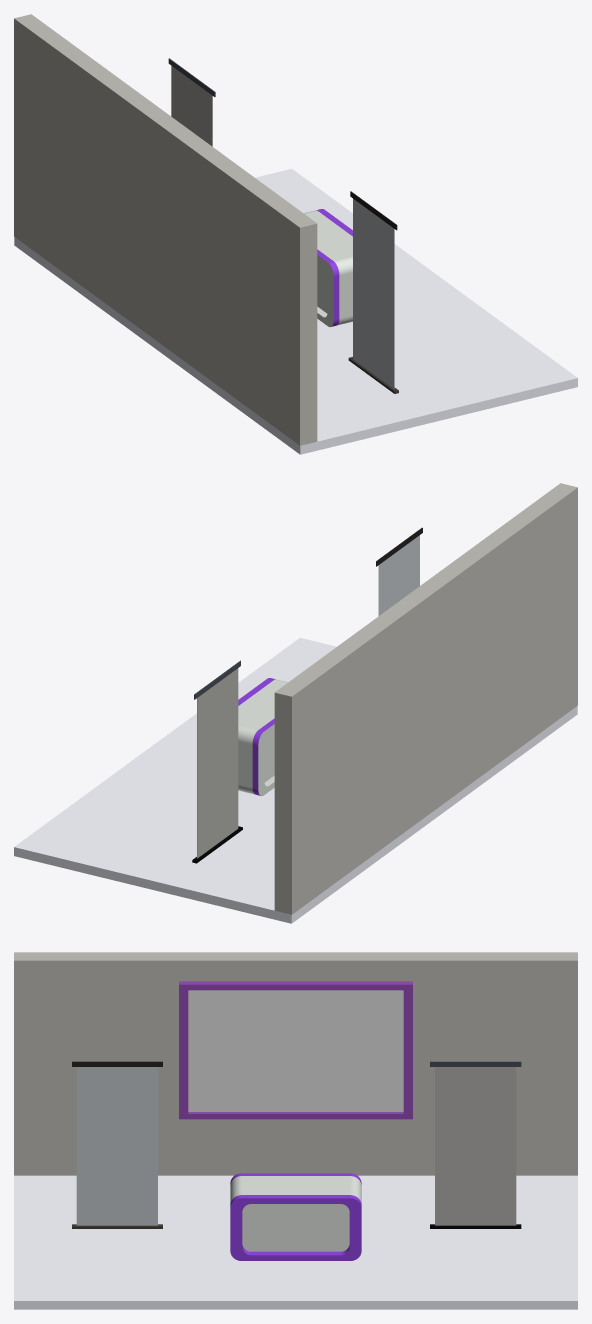
File: exhibition.glb
The picture shows the model from 3 angles, top to bottom: view 1: azimuth 30°, elevation 25°; view 2: azimuth 150°, elevation 25°; view 3: azimuth 270°, elevation 25°; orthographic projection.
Parts seen in each view (by area): view 1: Cube.005, Cube, Cube.006, Cube.004, Cube.001; view 2: Cube.005, Cube, Cube.001, Cube.004, Cube.006; view 3: Cube.005, Cube, Cube.009, Cube.001, Cube.006, Cube.004, Cube.003, Cube.008.
Boxes of the visible parts, bbox=[...] form: Cube.005: bbox=[14, 14, 317, 445]; Cube: bbox=[14, 168, 577, 454]; Cube.006: bbox=[353, 199, 394, 389]; Cube.004: bbox=[304, 209, 352, 326]; Cube.001: bbox=[171, 66, 212, 146]; Cube.005: bbox=[274, 483, 577, 914]; Cube: bbox=[14, 637, 577, 923]; Cube.001: bbox=[197, 668, 238, 858]; Cube.004: bbox=[238, 678, 287, 795]; Cube.006: bbox=[378, 535, 419, 615]; Cube.005: bbox=[14, 952, 577, 1175]; Cube: bbox=[14, 1175, 577, 1309]; Cube.009: bbox=[179, 981, 412, 1119]; Cube.001: bbox=[435, 1067, 516, 1225]; Cube.006: bbox=[76, 1067, 157, 1225]; Cube.004: bbox=[230, 1173, 361, 1260]; Cube.003: bbox=[430, 1061, 521, 1066]; Cube.008: bbox=[72, 1061, 162, 1066].
Size of the model in its own units: 13.28 by 10.37 by 23.68.
